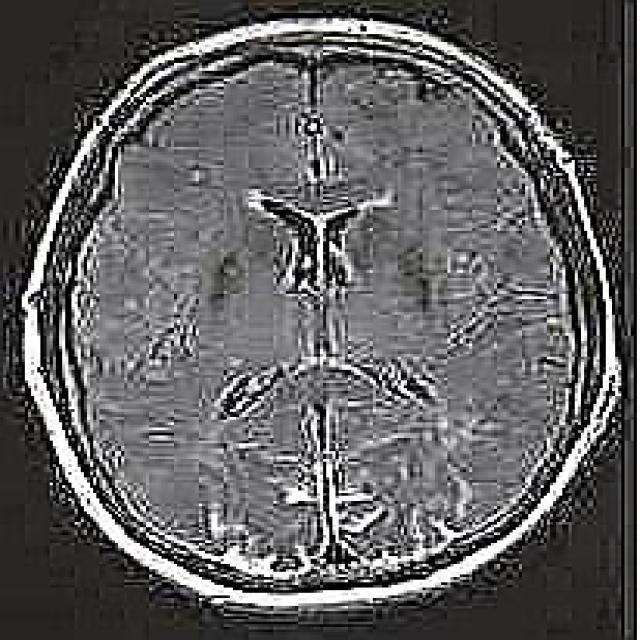notumor: (22, 16, 621, 624)
